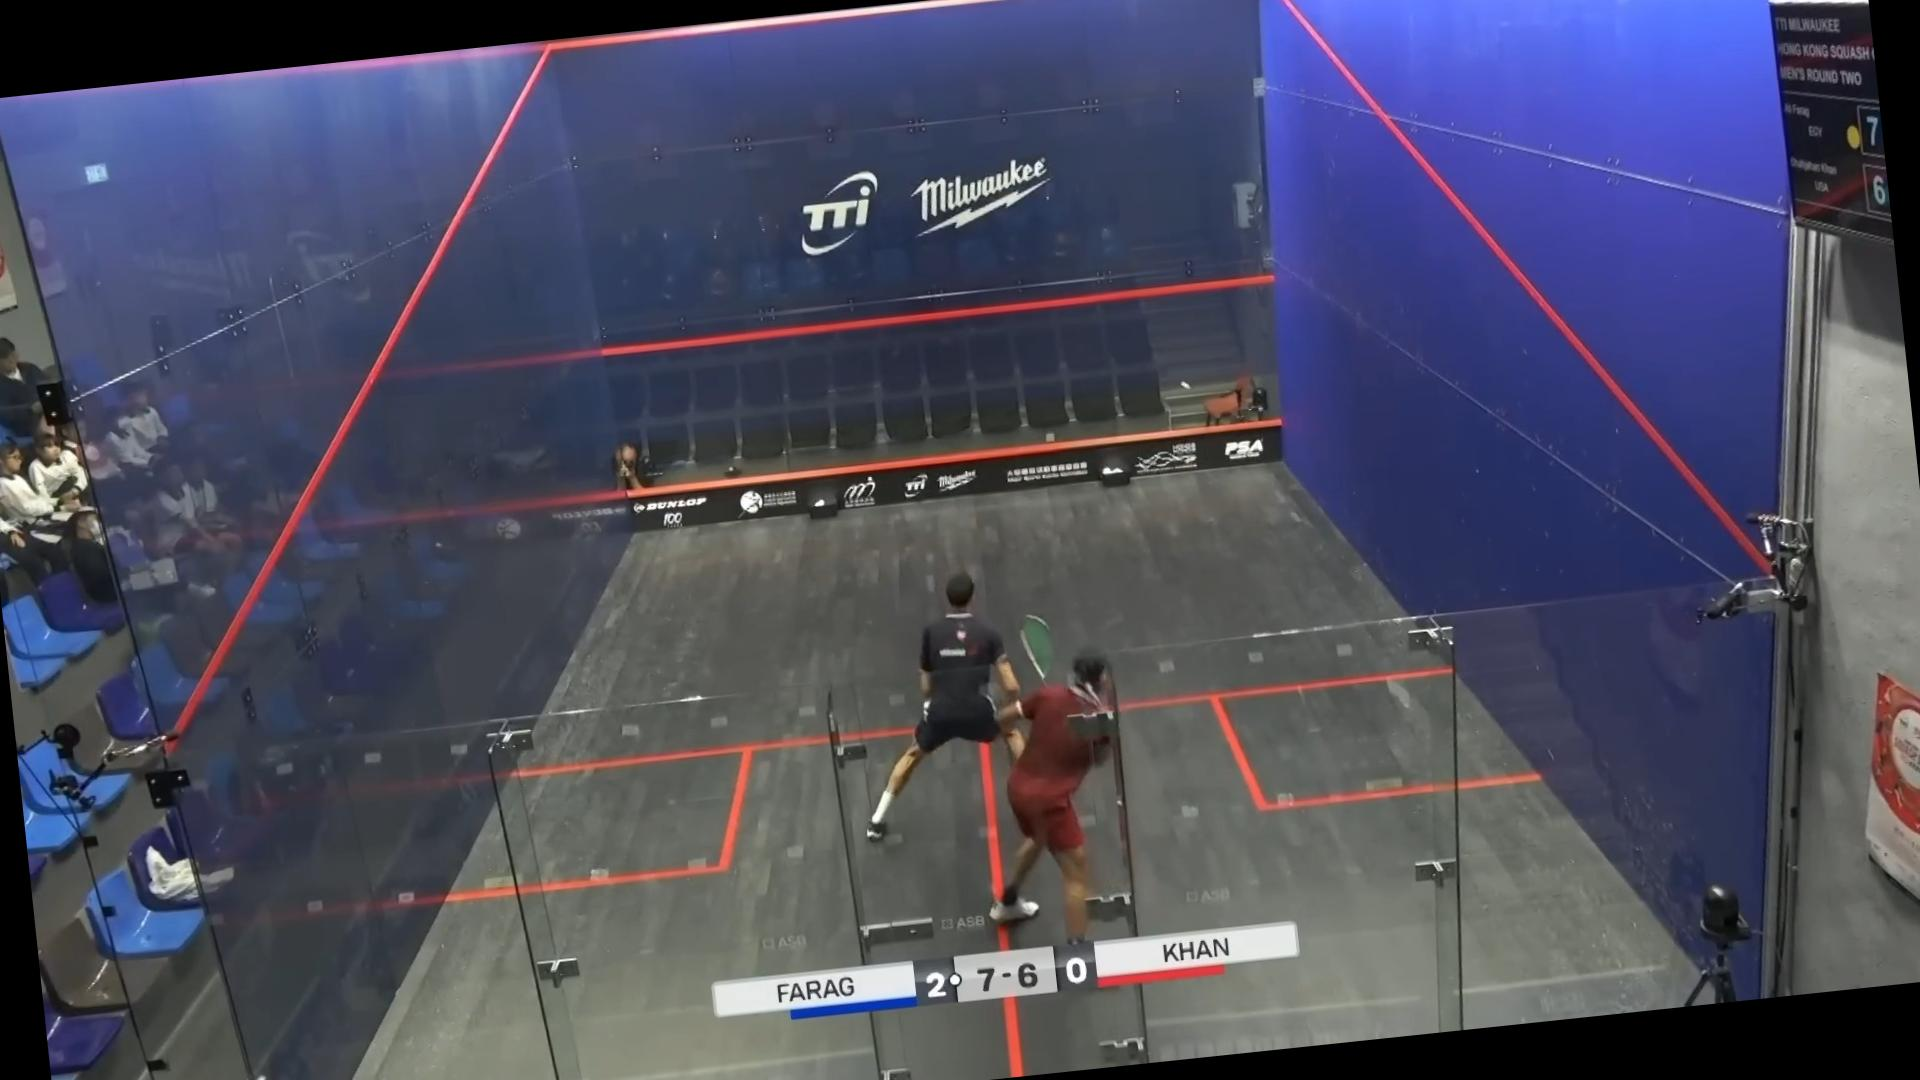Racket: (1025, 612, 1073, 707)
